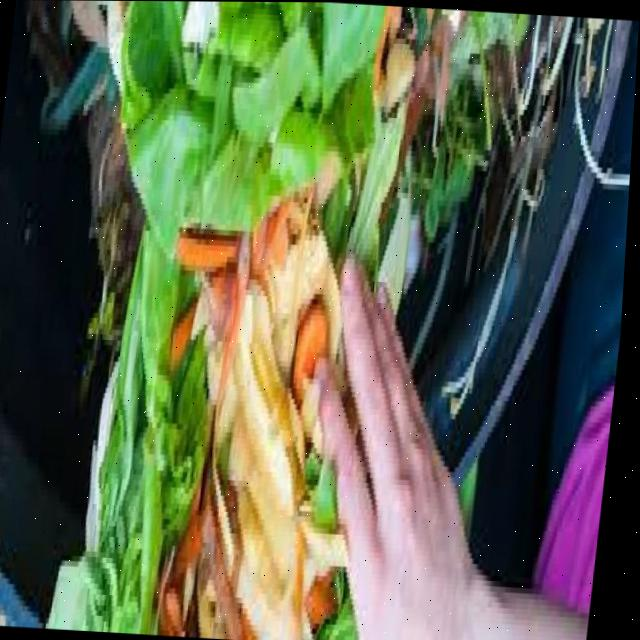Wet: (46, 0, 358, 637), (88, 1, 541, 244)
